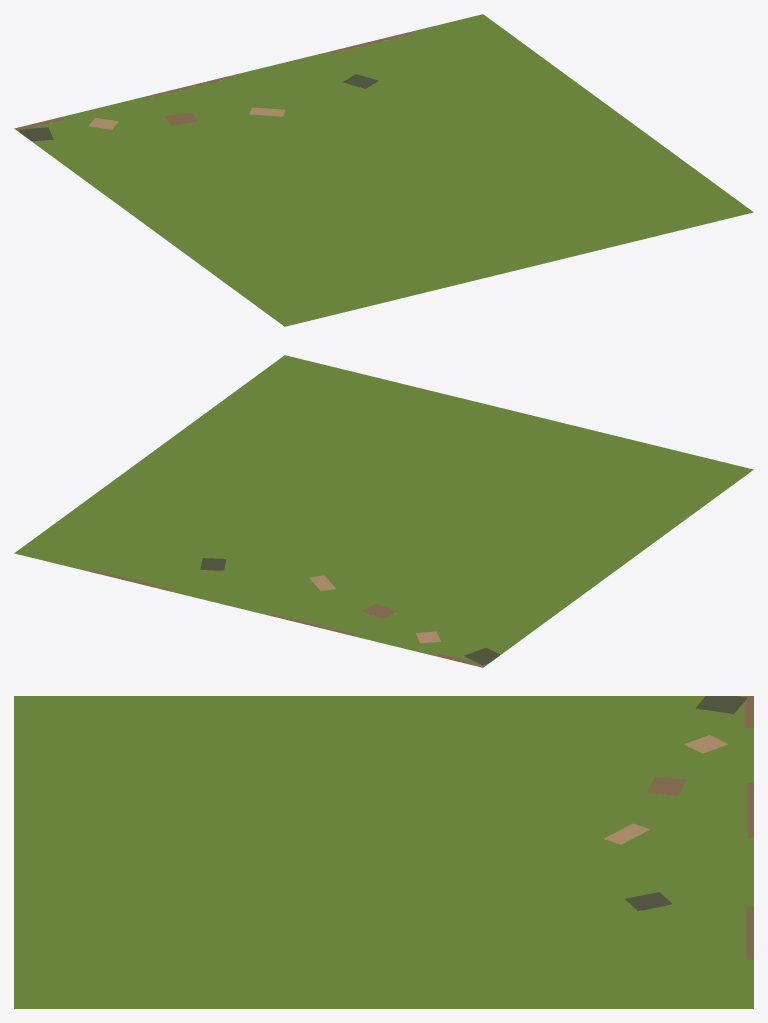
The model's file is cure-30-3.glb.
The picture shows the model from 3 angles, top to bottom: view 1: azimuth 30°, elevation 25°; view 2: azimuth 150°, elevation 25°; view 3: azimuth 270°, elevation 25°; orthographic projection. The views are drawn at different scales.
Visible parts, largest first — view 1: cure-30-3; view 2: cure-30-3; view 3: cure-30-3.
Boxes of the visible parts, x1,y1,x2,y2 form: cure-30-3: [14, 14, 753, 326]; cure-30-3: [14, 355, 753, 667]; cure-30-3: [14, 696, 753, 1008].
Size of the model in its own units: 100 by 0.005 by 100.
